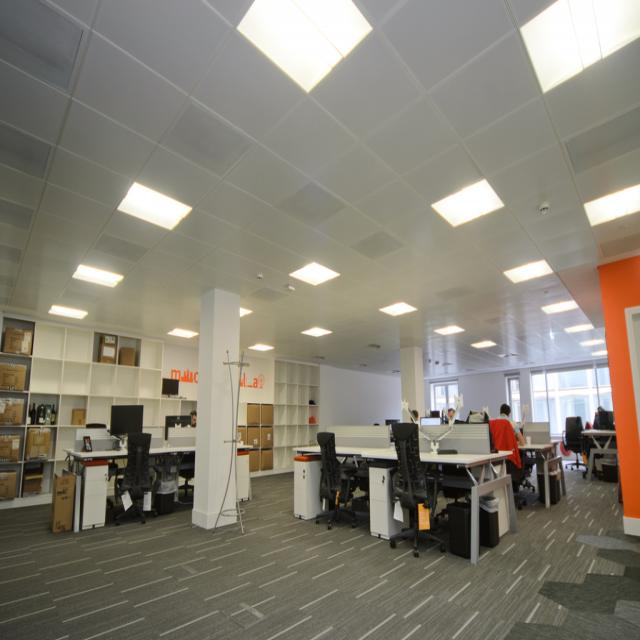chair: (388, 422, 438, 553), (316, 432, 366, 528), (112, 433, 154, 526)
desk: (65, 435, 252, 531)
person: (489, 404, 537, 503)
tv: (109, 406, 144, 434)
